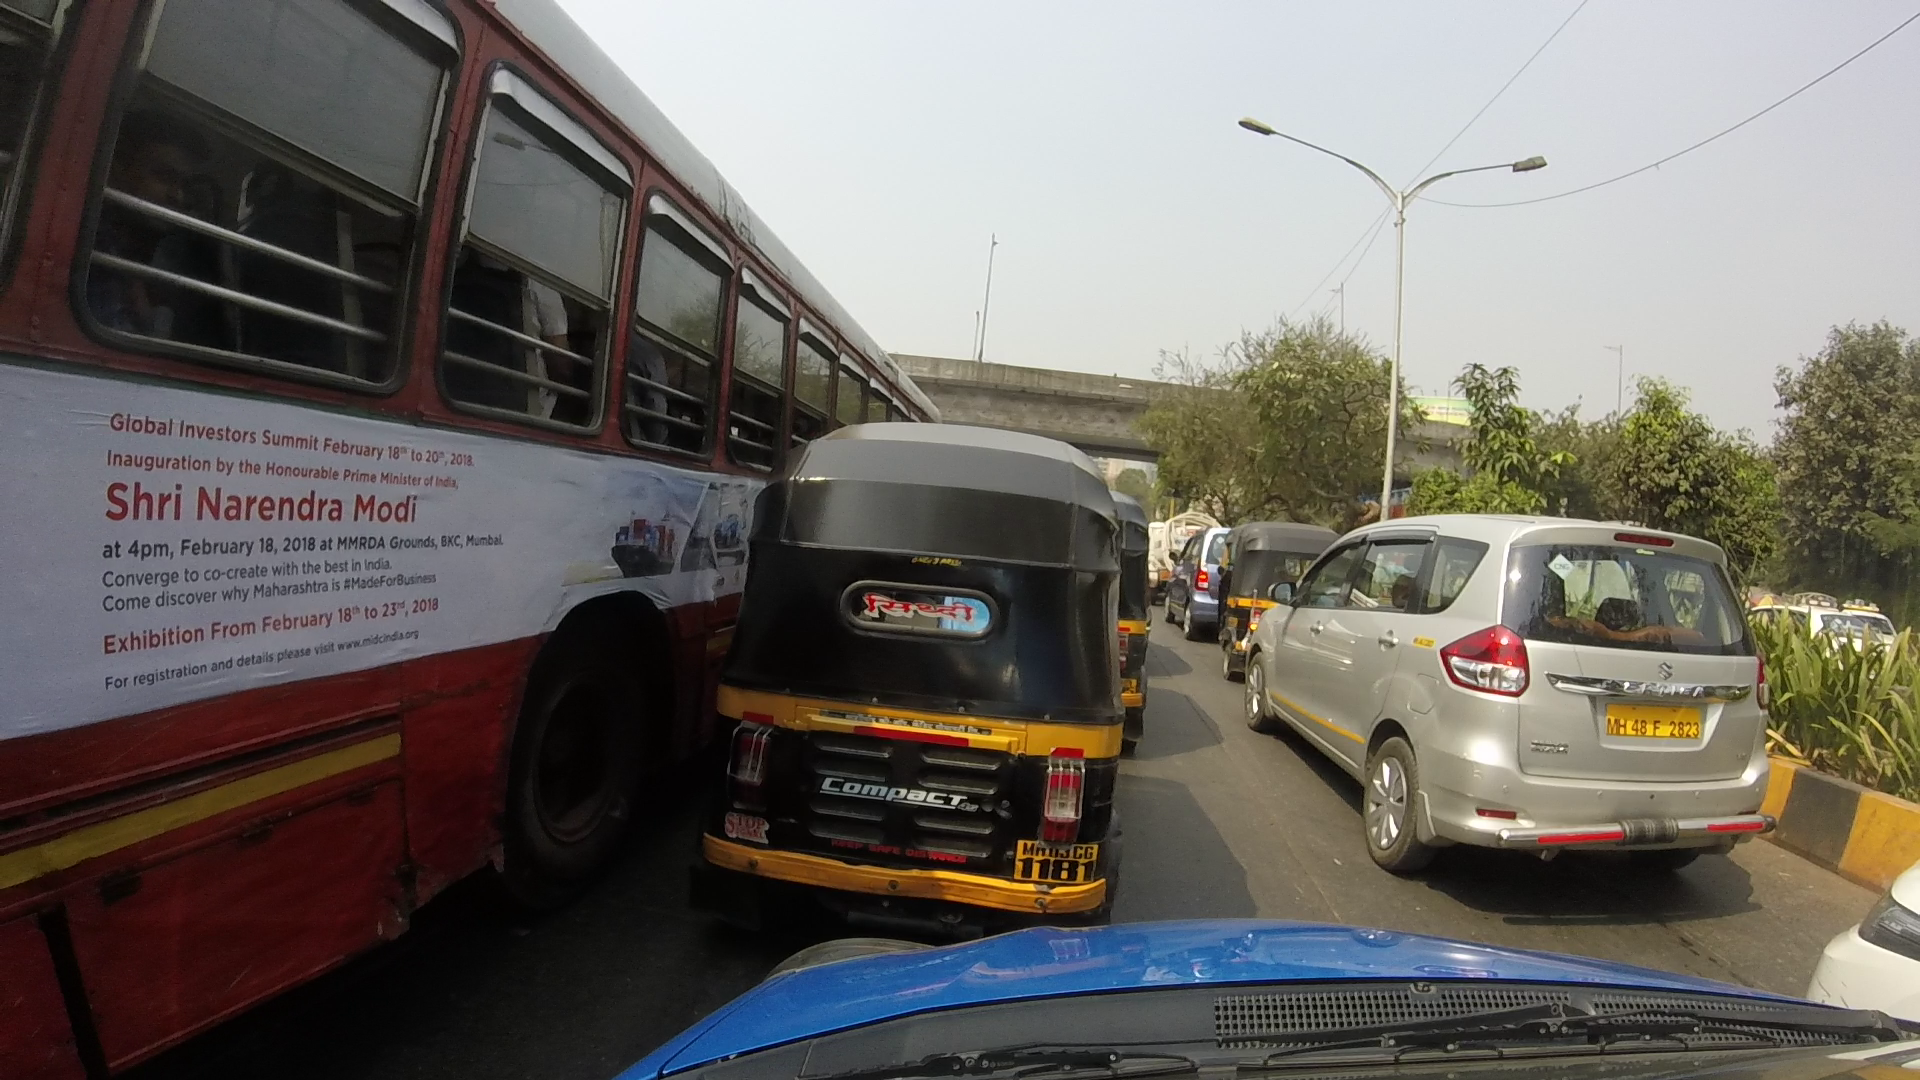bus: (28, 4, 940, 1022)
car: (1258, 506, 1784, 860), (1155, 516, 1234, 640)
rickshaw: (723, 419, 1127, 913), (1232, 522, 1349, 669)
